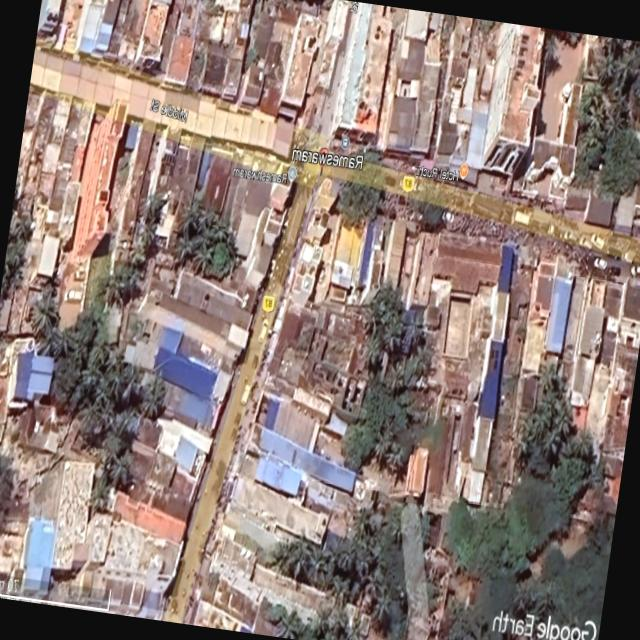objects-ruins-artifacts: (304, 240, 494, 557), (46, 188, 281, 432), (306, 23, 597, 215)
